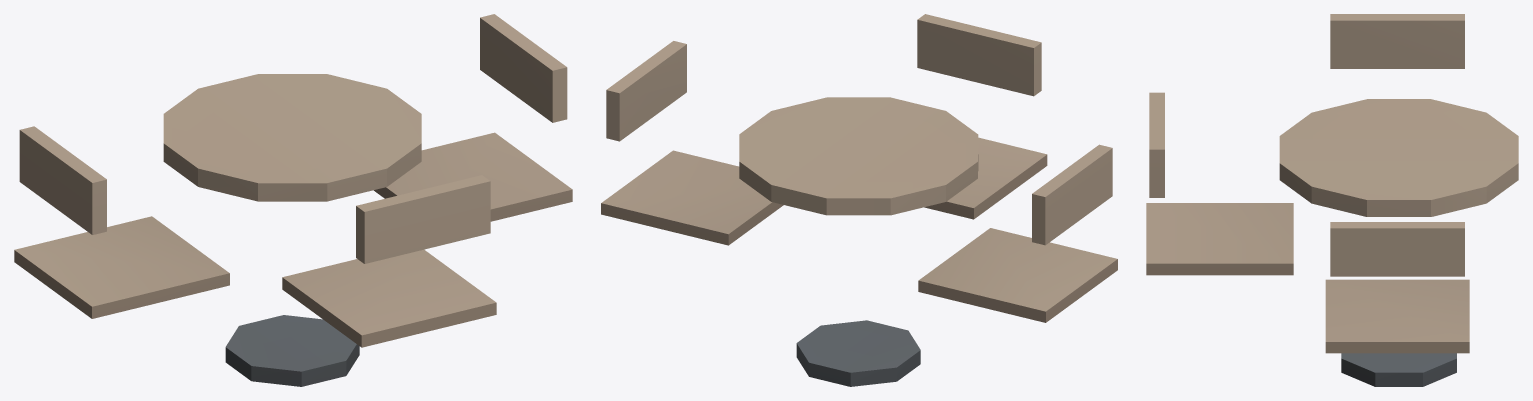
The model's file is cafe.lod2.glb.
The picture shows the model from 3 angles, left to right: view 1: azimuth 30°, elevation 25°; view 2: azimuth 150°, elevation 25°; view 3: azimuth 270°, elevation 25°; orthographic projection. The views are drawn at different scales.
Size of the model in its own units: 1.64 by 0.85 by 1.19.
